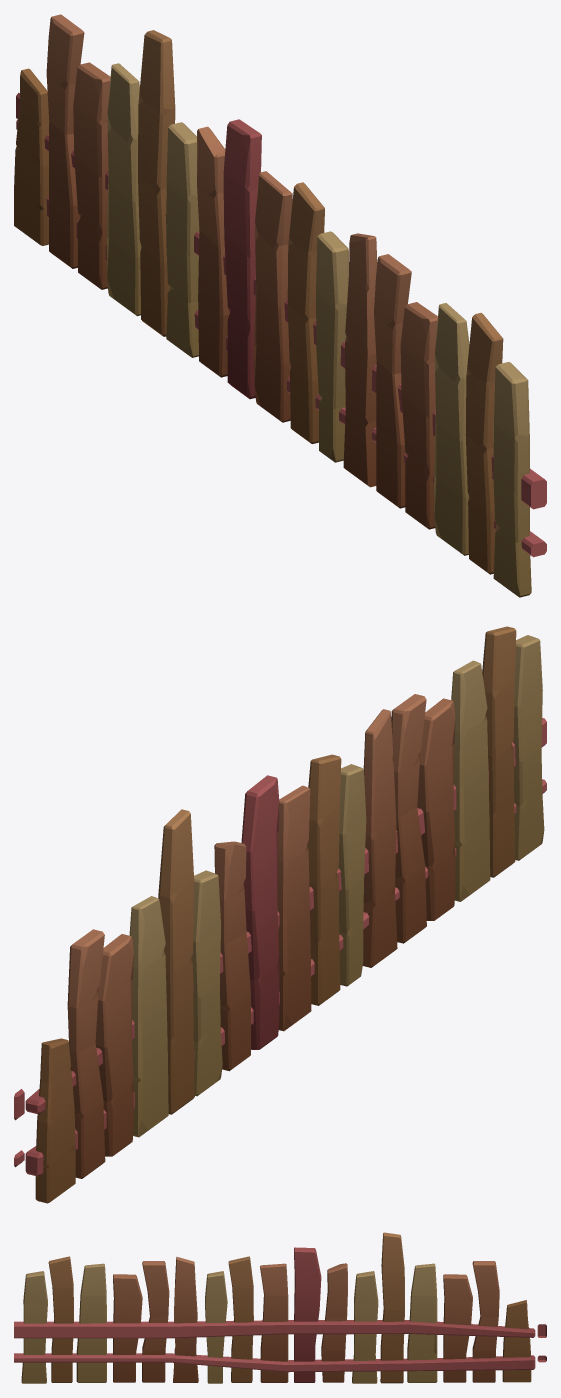
The model's file is pagar10.fbx.
The picture shows the model from 3 angles, top to bottom: view 1: azimuth 30°, elevation 25°; view 2: azimuth 150°, elevation 25°; view 3: azimuth 270°, elevation 25°; orthographic projection. The views are drawn at different scales.
Visible parts, largest first — view 1: Pagar fix.010; view 2: Pagar fix.010; view 3: Pagar fix.010.
Boxes of the visible parts, x1,y1,x2,y2 form: Pagar fix.010: [14, 14, 546, 597]; Pagar fix.010: [14, 626, 546, 1203]; Pagar fix.010: [14, 1232, 546, 1383].
Bounding box in the file's own units: 15.26 × 188 × 609.
1 material, 1 textured.
